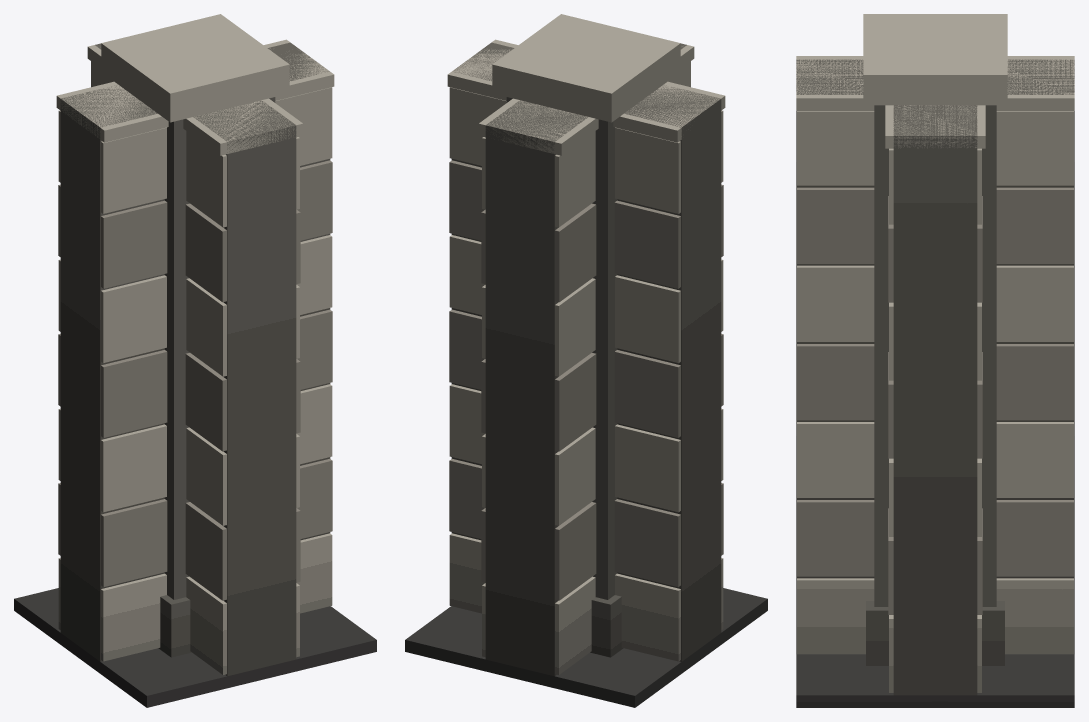
File: model_45_stone_cross.glb
The picture shows the model from 3 angles, left to right: view 1: azimuth 30°, elevation 25°; view 2: azimuth 150°, elevation 25°; view 3: azimuth 270°, elevation 25°; orthographic projection. The views are drawn at different scales.
Size of the model in its own units: 1 by 2.4 by 1.
Materials: 1 (1 with a texture image).
